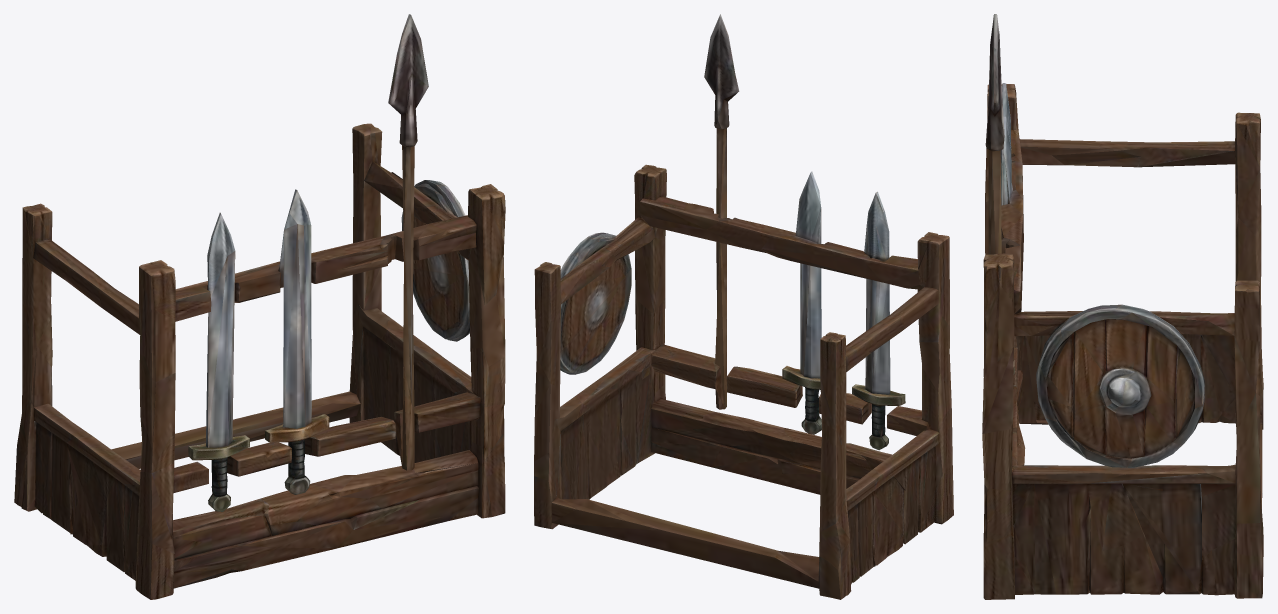
The model's file is weapon_rack_3d.glb.
3 renders of one model, left to right at view 1: azimuth 30°, elevation 25°; view 2: azimuth 150°, elevation 25°; view 3: azimuth 270°, elevation 25°, orthographic. The views are drawn at different scales.
Visible parts, largest first — view 1: Mesh_0; view 2: Mesh_0; view 3: Mesh_0.
Part boxes in pixels (<box>): Mesh_0: <box>14,14,505,599</box>; Mesh_0: <box>534,14,953,599</box>; Mesh_0: <box>982,14,1263,599</box>.
Size of the model in its own units: 1.2 by 1.56 by 0.7378.
1 material, 1 textured.
